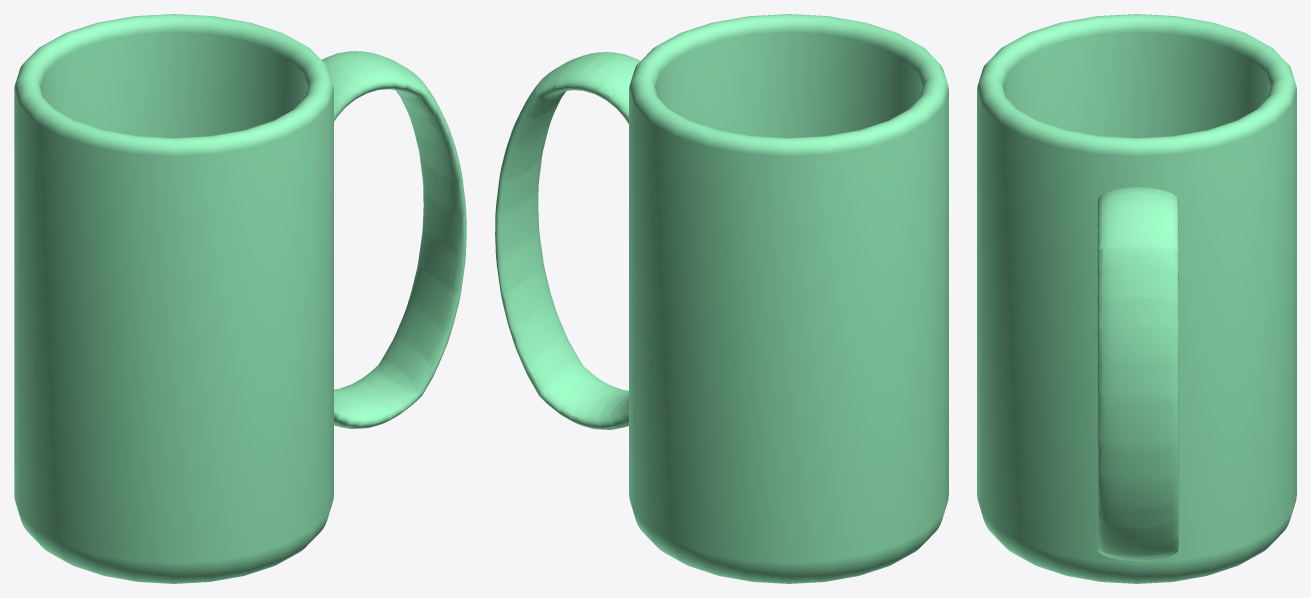
File: cup.min.dae
3 views of the same model, side by side, from view 1: azimuth 30°, elevation 25°; view 2: azimuth 150°, elevation 25°; view 3: azimuth 270°, elevation 25° (orthographic).
Parts seen in each view (by area): view 1: Group1; view 2: Group1; view 3: Group1.
Boxes of the visible parts, x1,y1,x2,y2 form: Group1: [14, 14, 466, 583]; Group1: [495, 14, 948, 583]; Group1: [977, 14, 1296, 583].
Size of the model in its own units: 2468 by 1636 by 2554.
